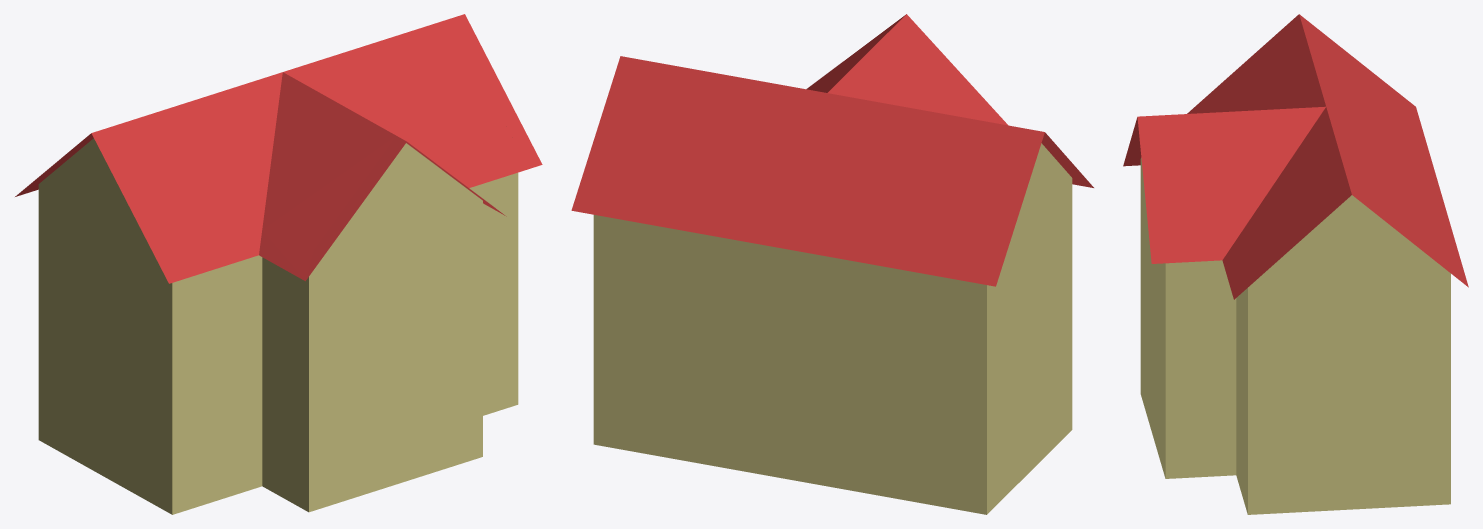
3 renders of one model, left to right at view 1: azimuth 30°, elevation 25°; view 2: azimuth 150°, elevation 25°; view 3: azimuth 270°, elevation 25°, orthographic. The views are drawn at different scales.
Size of the model in its own units: 14.36 by 10.86 by 11.14.
